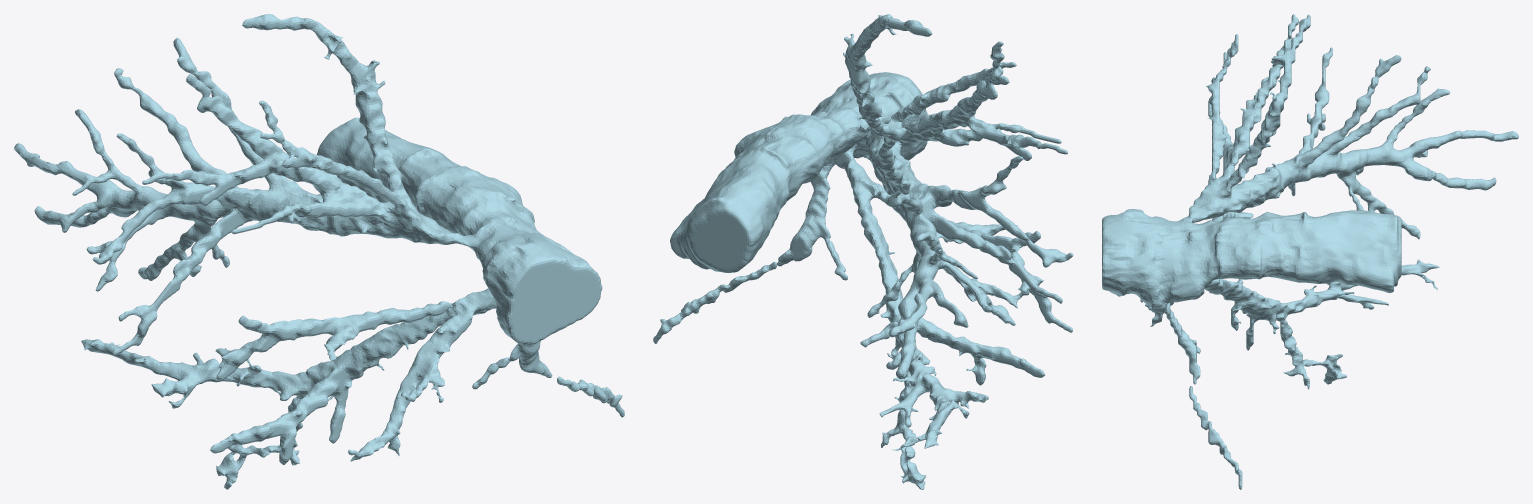
File: venacava.obj
The picture shows the model from 3 angles, left to right: view 1: azimuth 30°, elevation 25°; view 2: azimuth 150°, elevation 25°; view 3: azimuth 270°, elevation 25°; orthographic projection. The views are drawn at different scales.
Parts seen in each view (by area): view 1: grp1; view 2: grp1; view 3: grp1.
Boxes of the visible parts, x1,y1,x2,y2 form: grp1: (14,14,624,489); grp1: (653,14,1073,489); grp1: (1102,14,1518,489).
Bounding box in the file's own units: 145 × 136 × 137.
